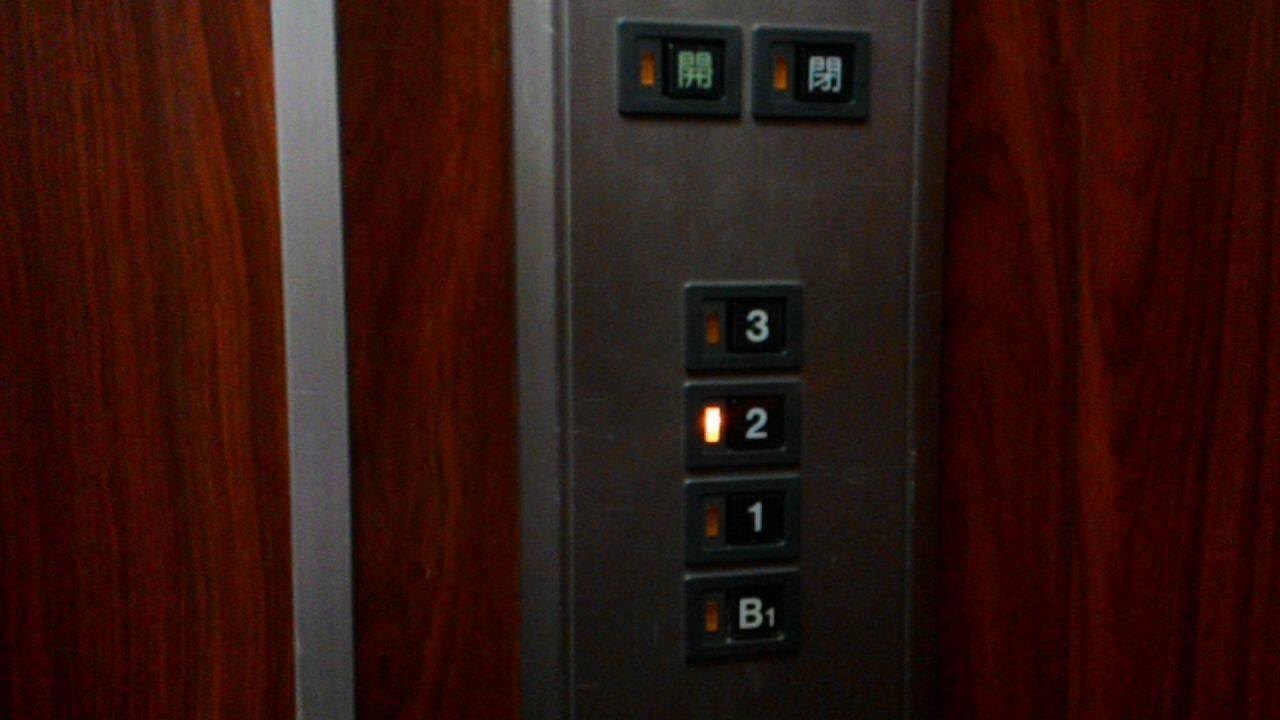1: (682, 473, 804, 572)
2: (676, 375, 806, 474)
3: (680, 274, 805, 374)
B1: (675, 562, 805, 664)
close: (737, 17, 873, 123)
open: (617, 16, 746, 122)
